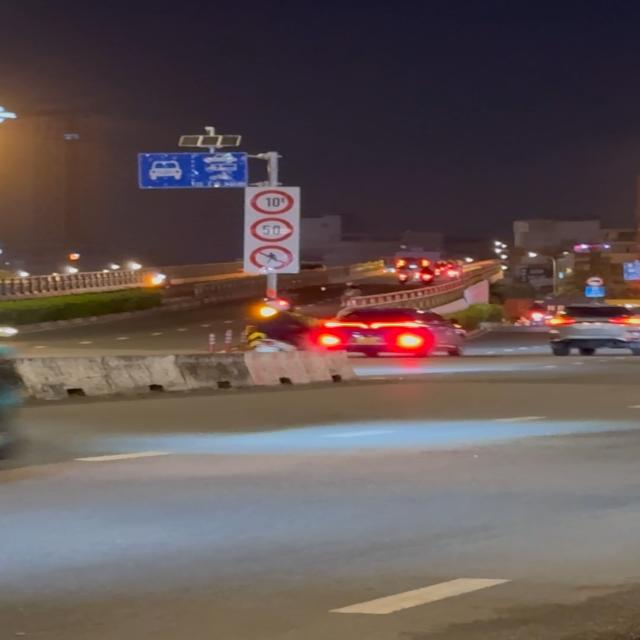Bien bao cam nguoi di bo: (247, 244, 295, 272)
Bien bao toc do toi da cho phep: (248, 216, 296, 242)
